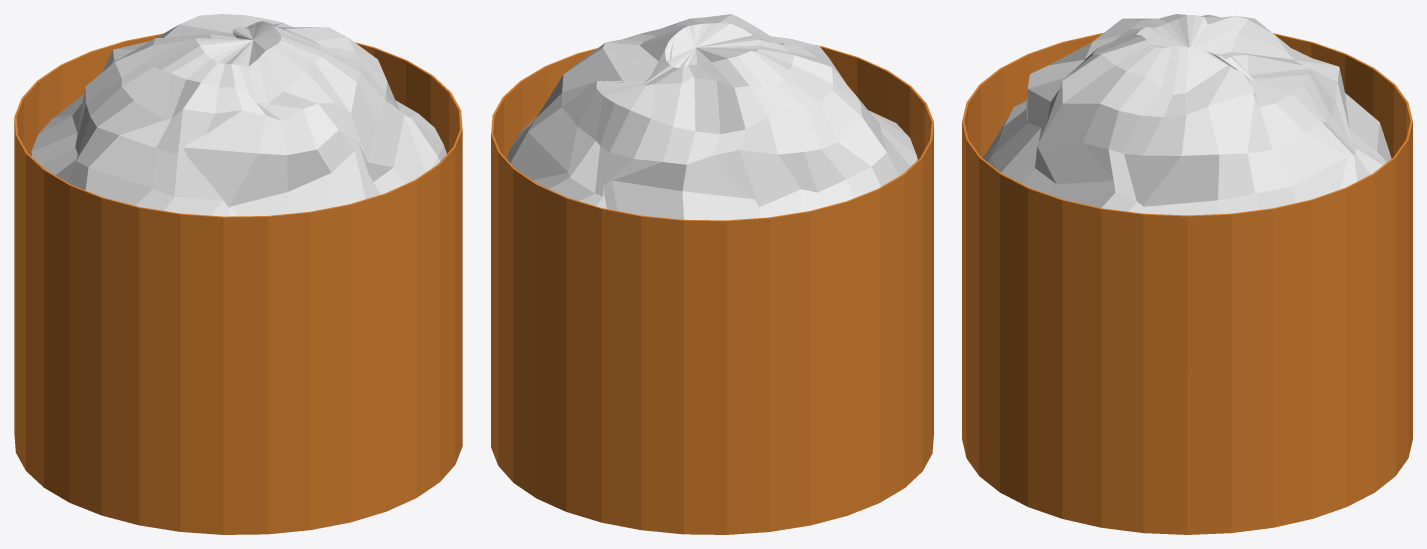
File: Tepung  Beras.fbx
The picture shows the model from 3 angles, left to right: view 1: azimuth 30°, elevation 25°; view 2: azimuth 150°, elevation 25°; view 3: azimuth 270°, elevation 25°; orthographic projection.
Visible parts, largest first — view 1: Cylinder, Sphere; view 2: Cylinder, Sphere; view 3: Cylinder, Sphere.
Boxes of the visible parts, x1,y1,x2,y2 form: Cylinder: [14, 33, 462, 534]; Sphere: [30, 14, 446, 216]; Cylinder: [491, 45, 933, 534]; Sphere: [506, 14, 917, 220]; Cylinder: [962, 33, 1412, 534]; Sphere: [983, 14, 1391, 215].
Bounding box in the file's own units: 200 × 200 × 200.
